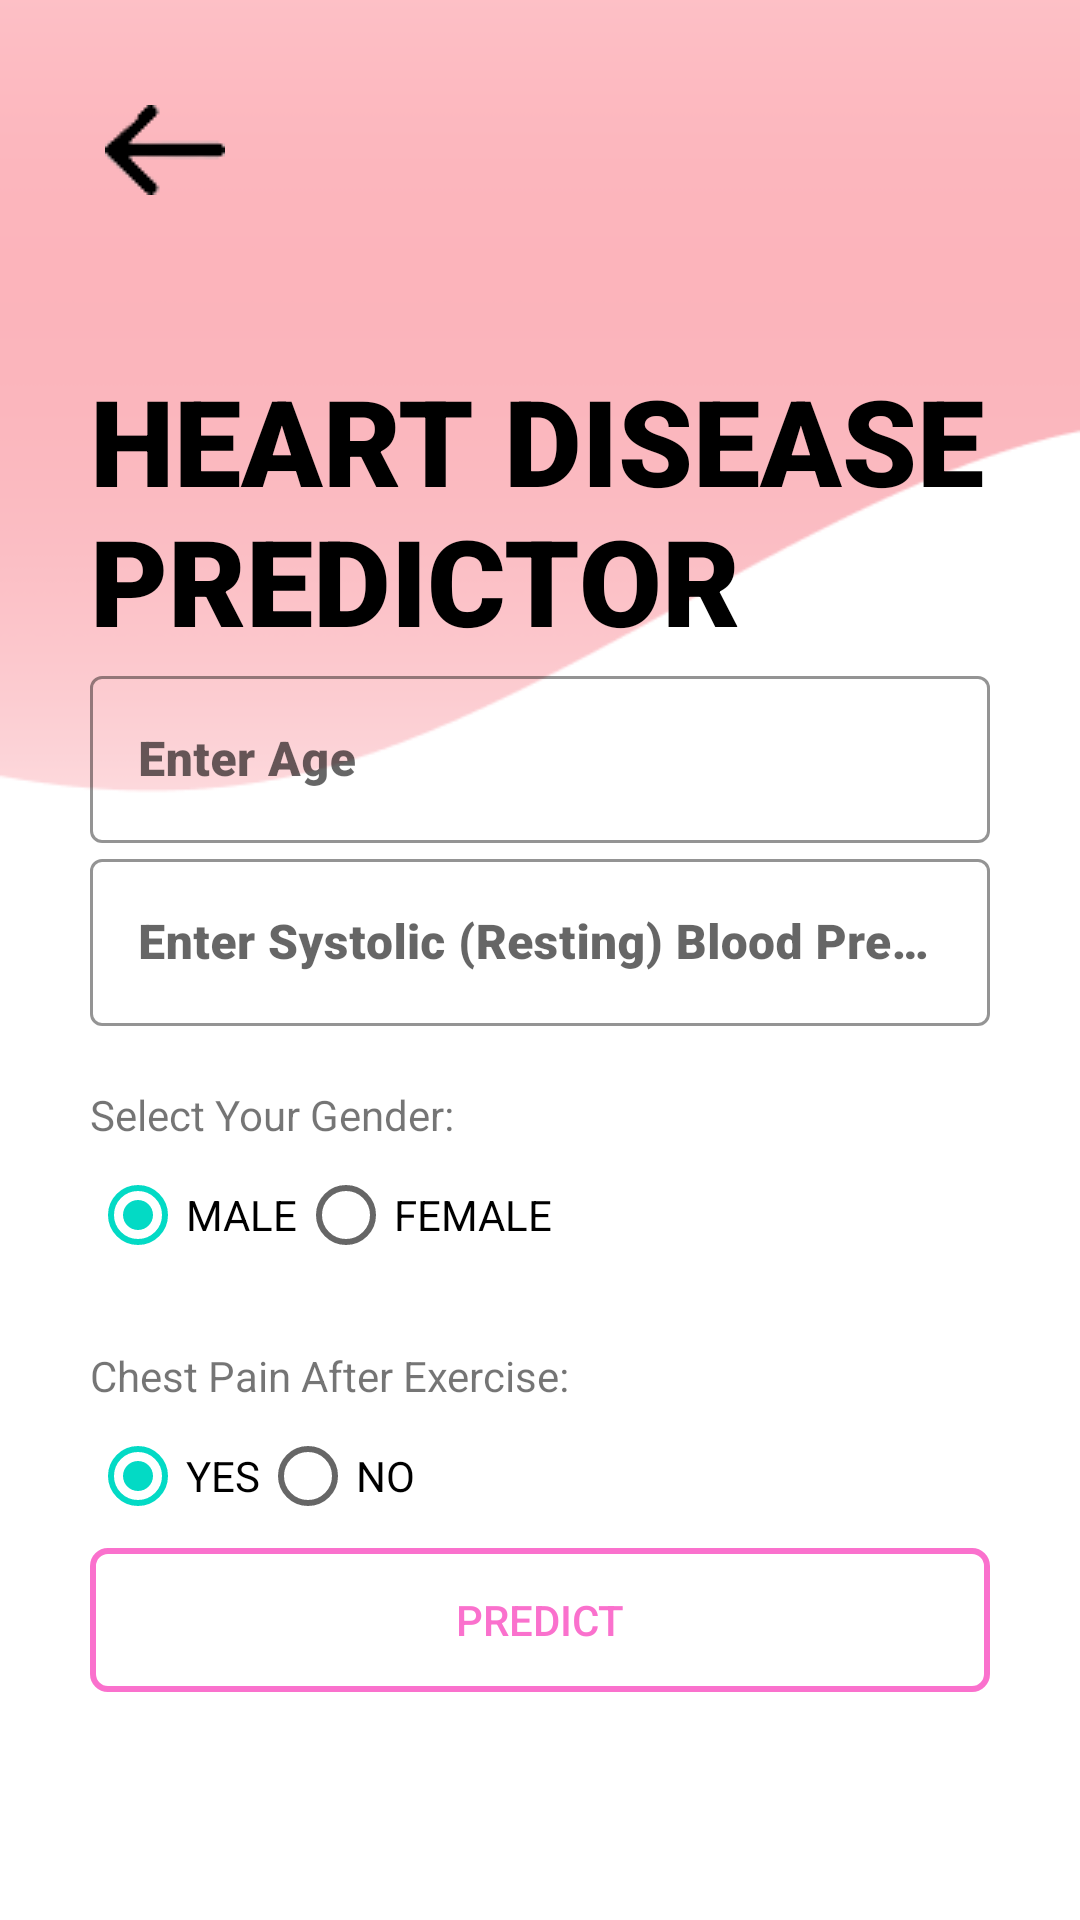

Locate icon controls on the screen. Image size 1080x1920, boxes as box(x1, y1, x2, y2).
back: box(105, 105, 225, 195)
